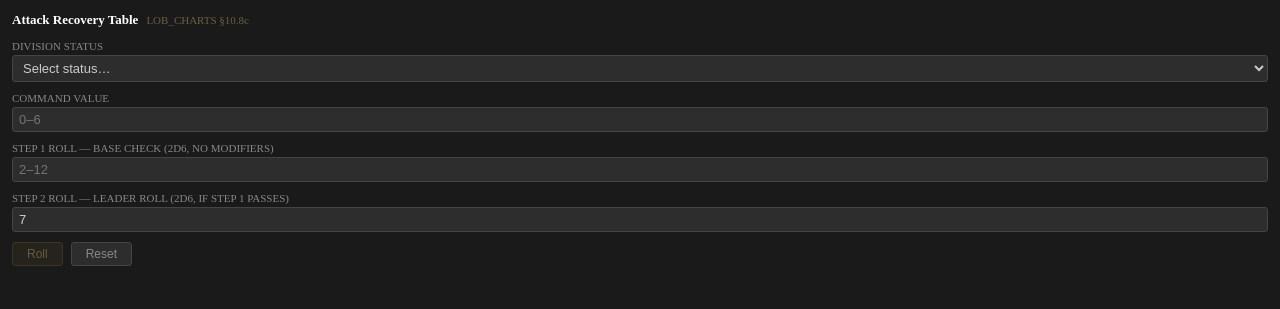
Test: AttackRecoveryPanel › displays loading state while POST is in flight
Select "Has Wrecked units, no Dead (threshold 9)" in the dropdown labelled "Division Status" at x=640, y=68, box [12,55,1268,82]
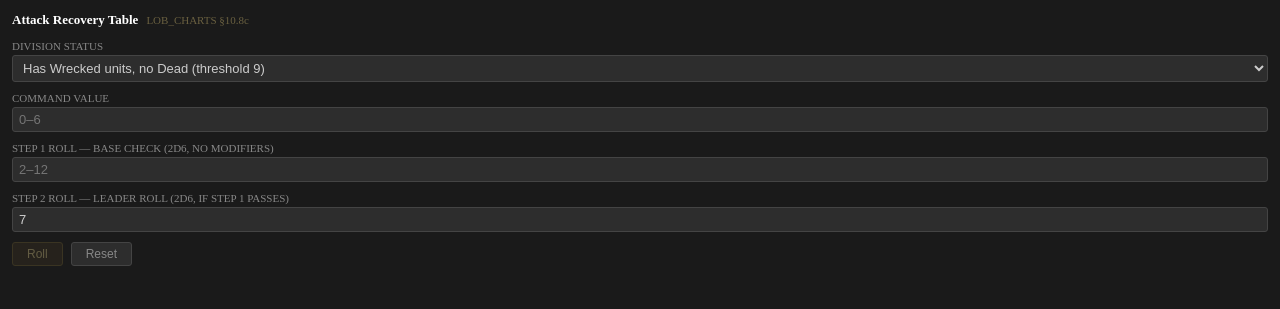
Type "3" into the number field labelled "Command Value".
click(640, 120); type("3")  # box [12,107,1268,132]
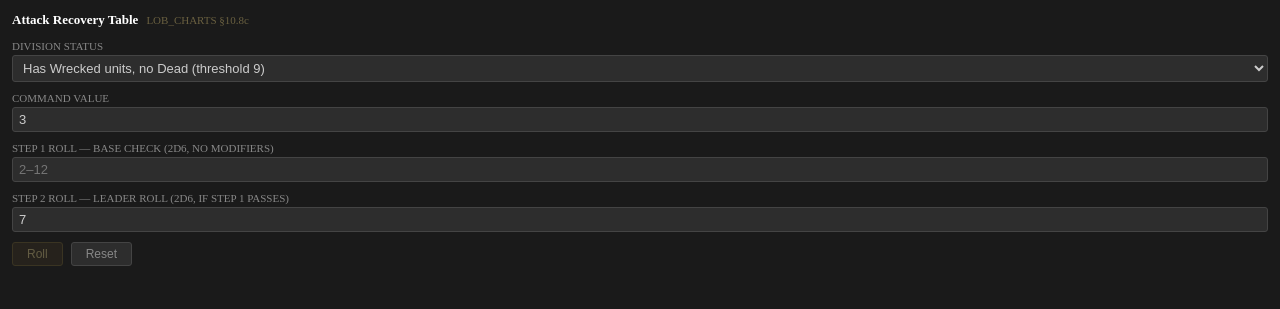
Type "10" into the number field labelled "Step 1 Roll — Base Check (2d6, no modifiers)".
click(640, 170); type("10")  # box [12,157,1268,182]
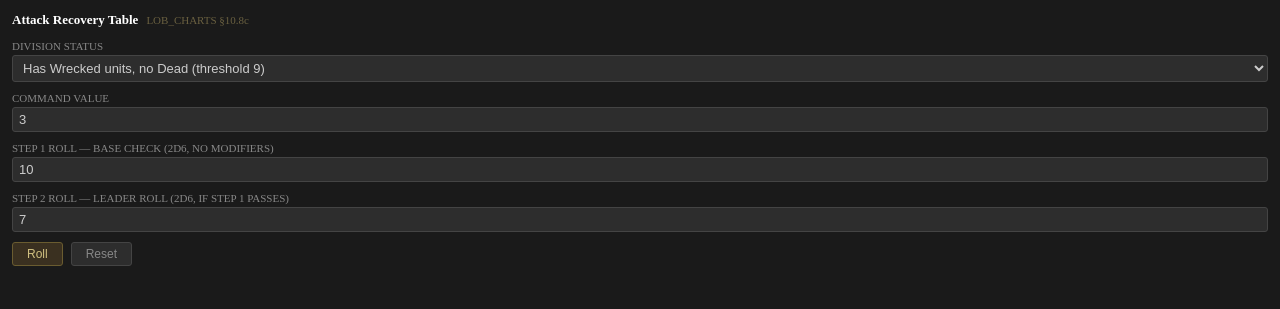
Click the button "Roll".
click(37, 254)  # box [12,242,63,266]
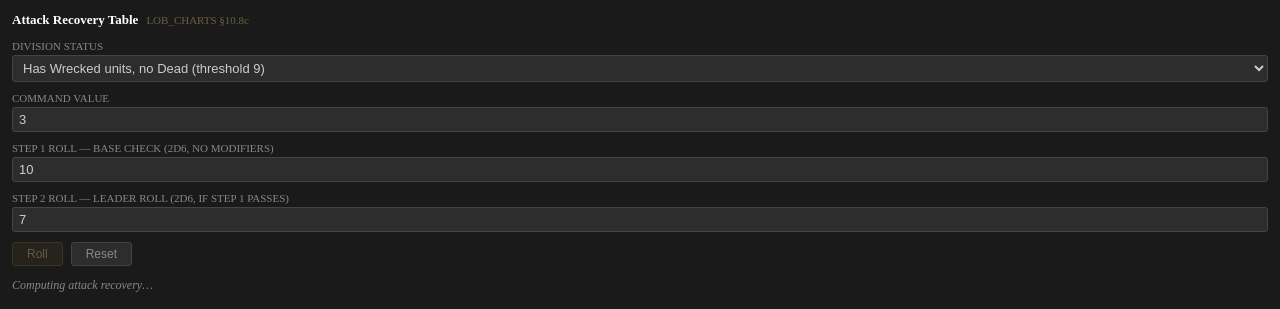
Now the text "Computing attack recovery" is shown, box [12,278,153,292]
